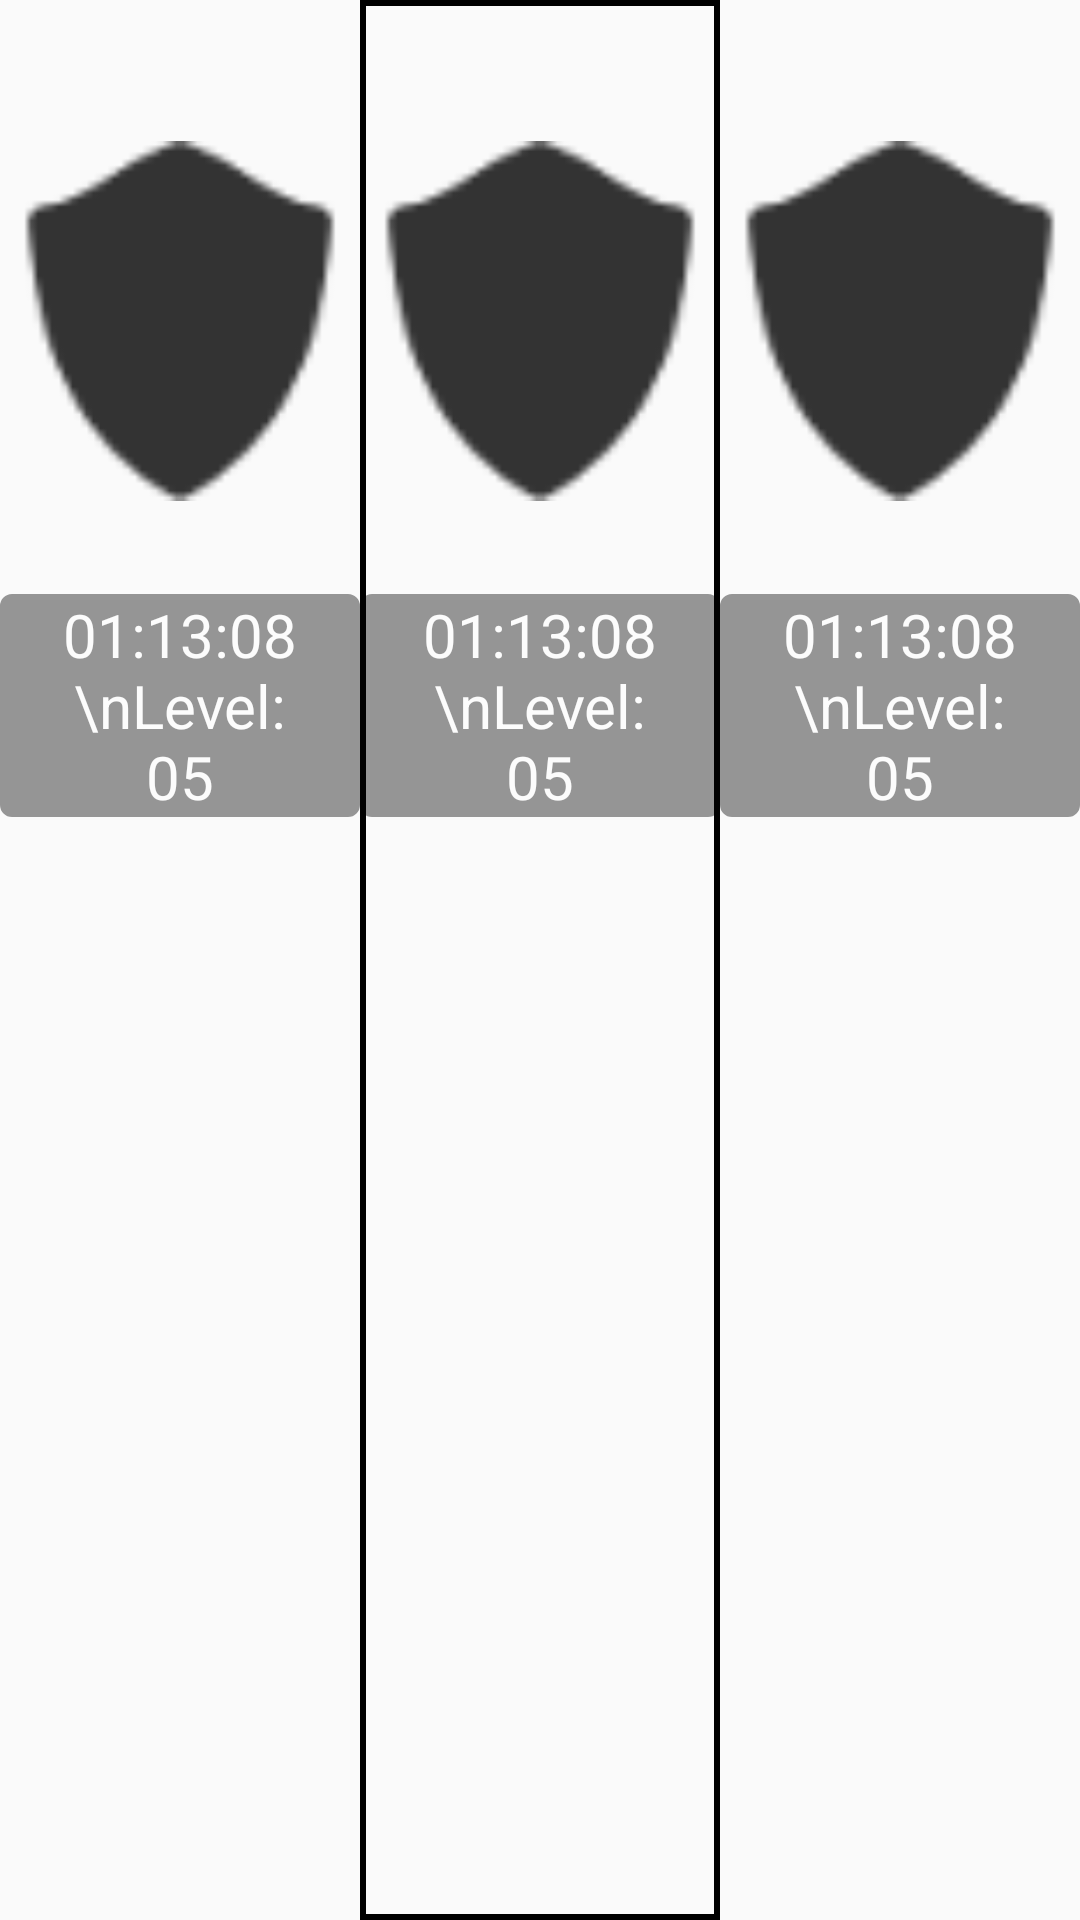

Where to tap for icons on this 1080w x 1920h app screen, as (x=x, y=y):
shield: (x=180, y=321), (x=540, y=321), (x=900, y=321)
